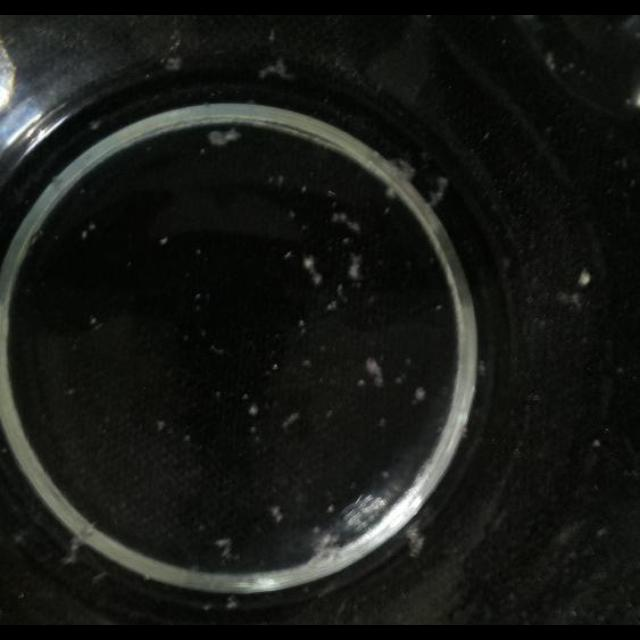Fibre: (328, 210, 364, 250), (258, 56, 294, 80), (424, 175, 450, 208), (206, 127, 242, 147), (302, 254, 322, 286), (364, 358, 384, 387), (347, 253, 365, 283), (281, 410, 299, 430), (215, 536, 232, 556), (270, 505, 284, 523), (414, 386, 426, 402)
